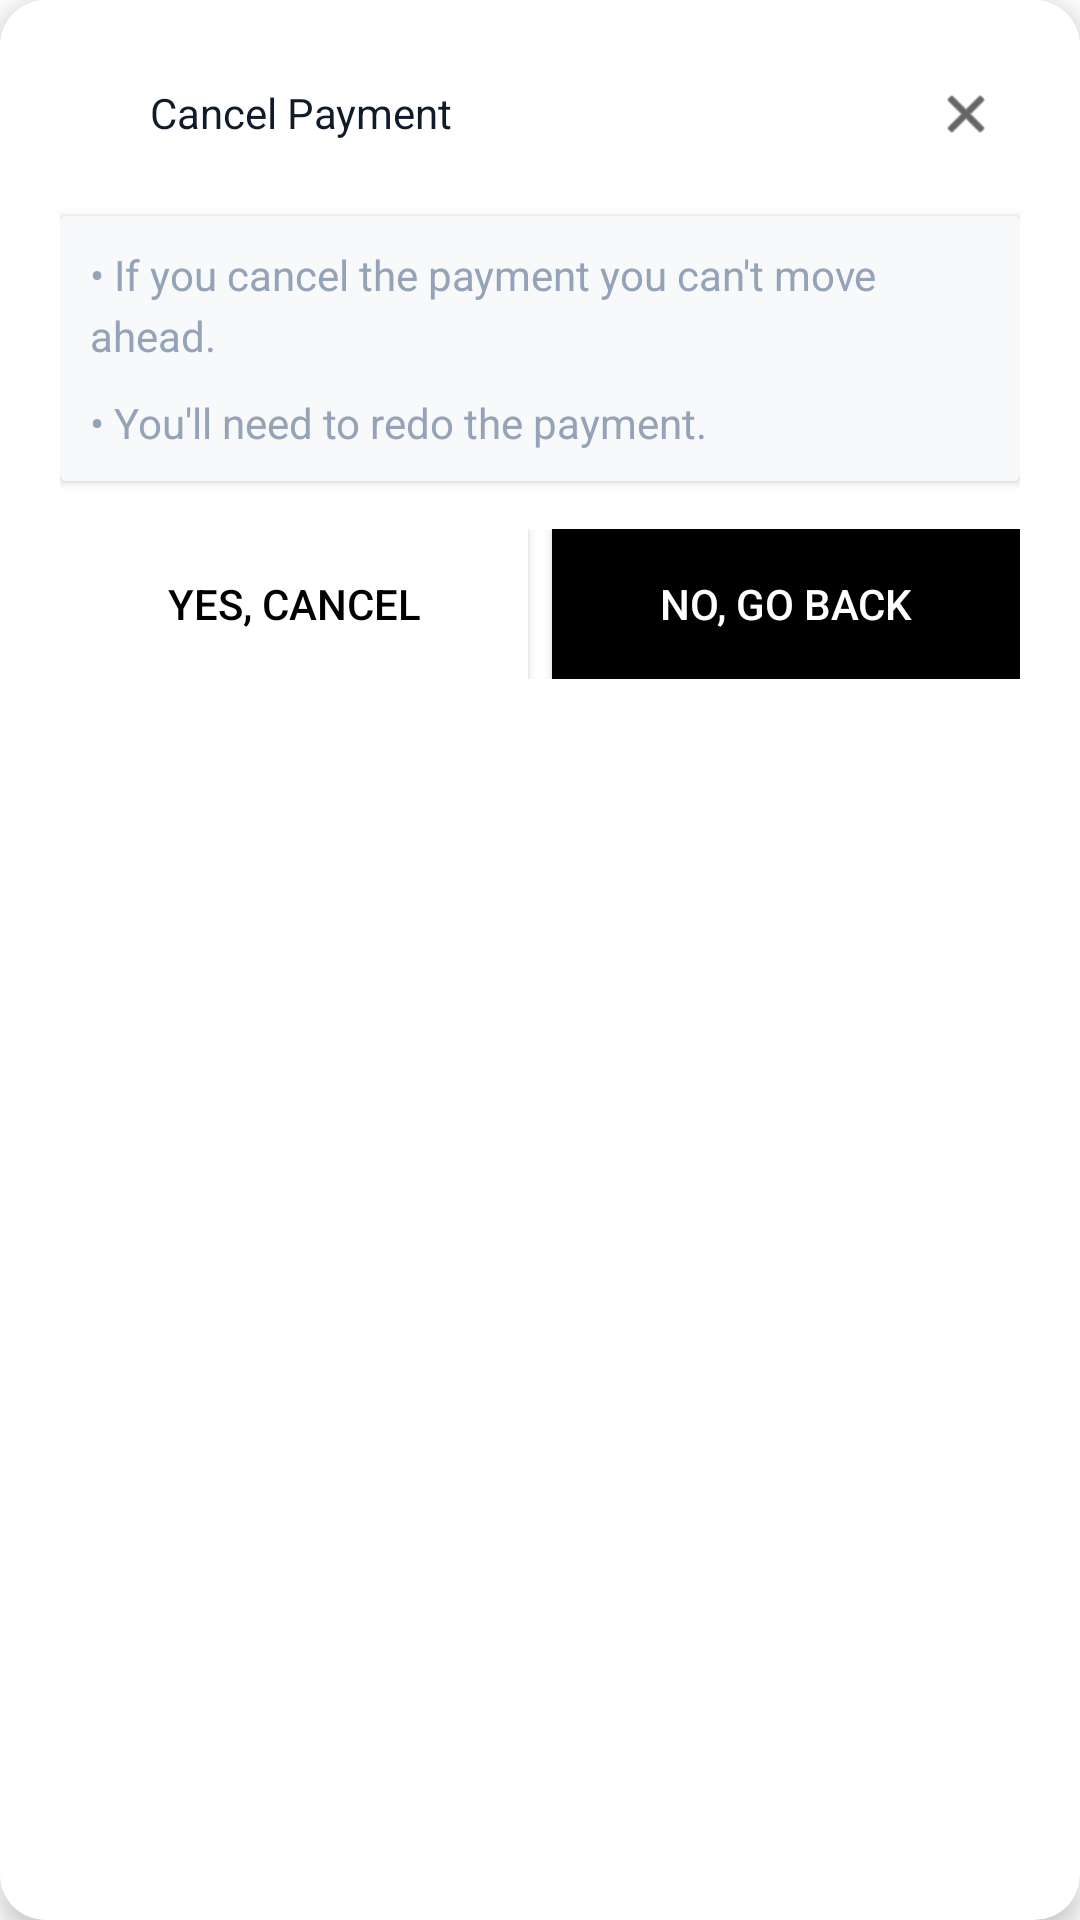

Where icons sit on this 1080px x 1920px app screen, as region(x1, y1, x2, y2):
close clear cancel: region(947, 95, 985, 133)
